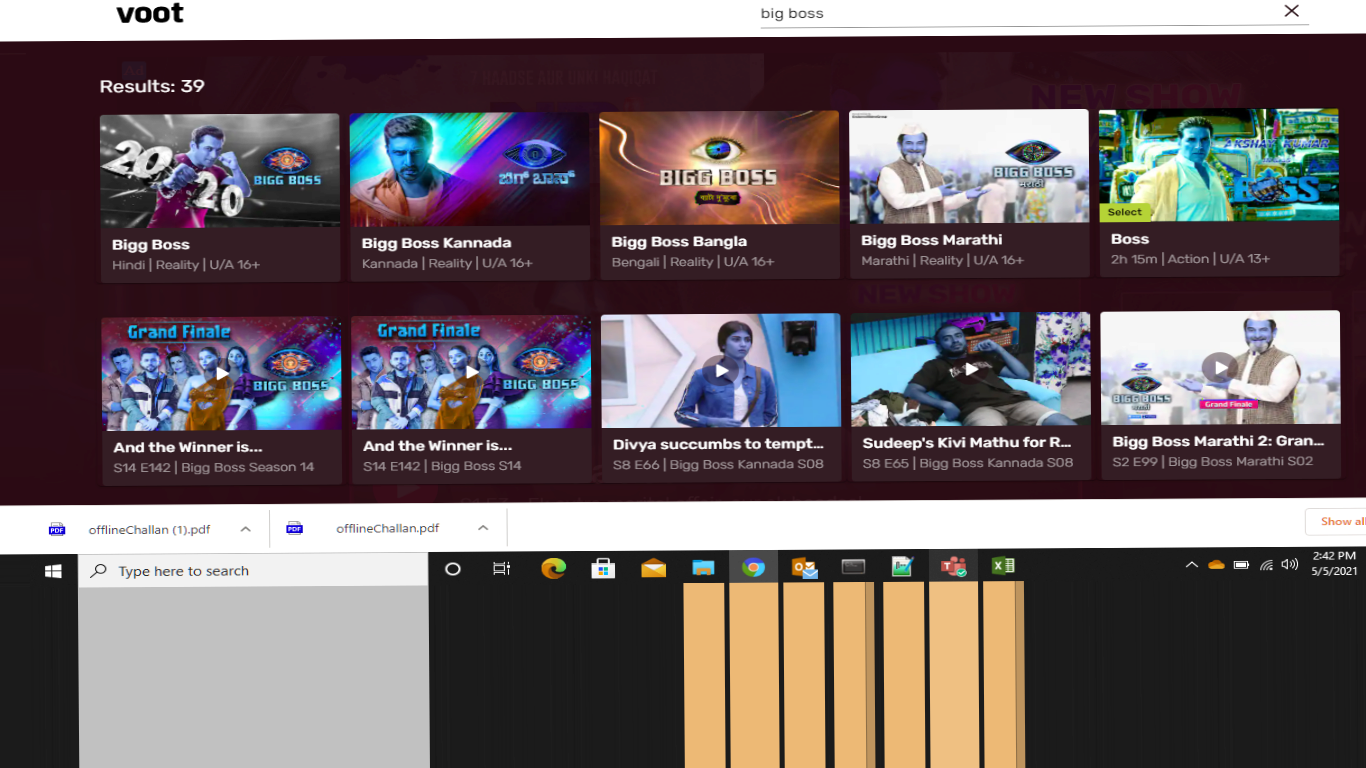resultsfound: (92, 67, 237, 116)
searchtextbox: (756, 1, 1314, 41)
